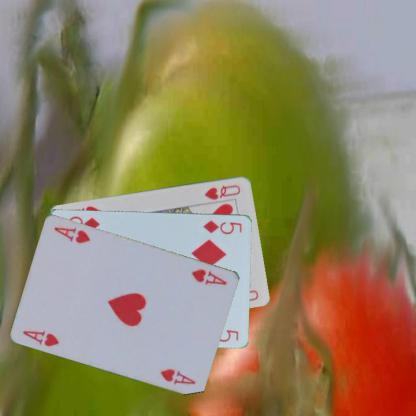5d: (201, 217, 243, 235)
Ah: (20, 327, 61, 348), (189, 266, 228, 286)
Qh: (202, 181, 242, 201)
